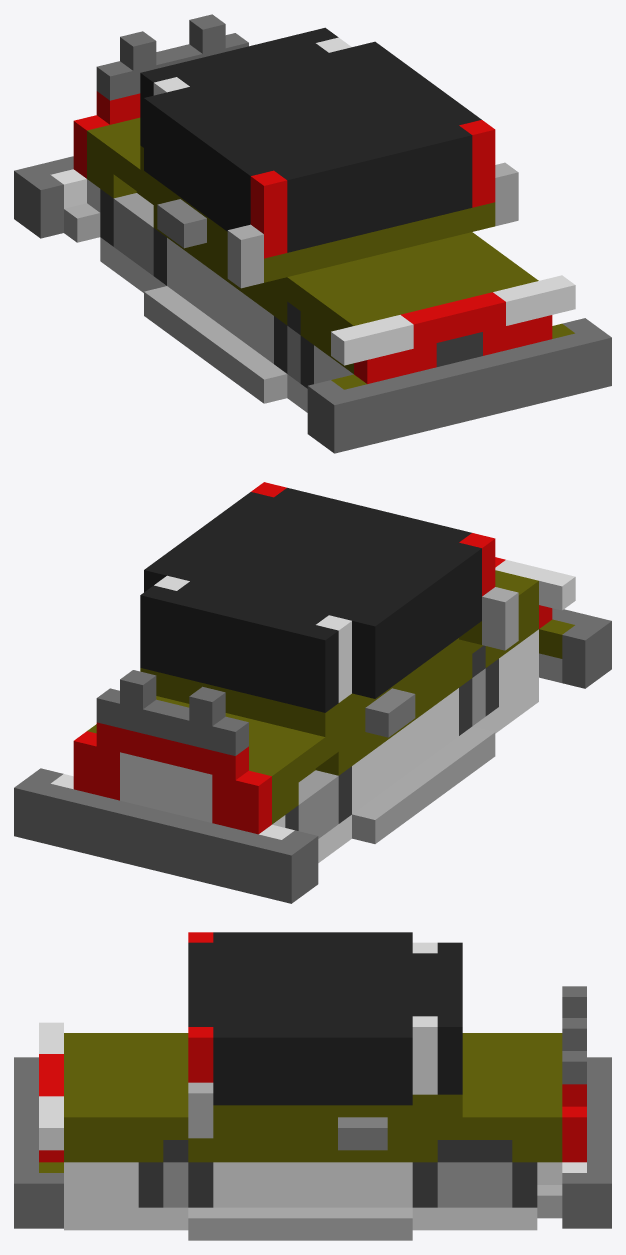
The model's file is redcar.obj.
3 views of the same model, one above another, from view 1: azimuth 30°, elevation 25°; view 2: azimuth 150°, elevation 25°; view 3: azimuth 270°, elevation 25° (orthographic). The views are drawn at different scales.
Bounding box in the file's own units: 1.2 × 0.9 × 2.4.
Materials: 1 (1 with a texture image).
